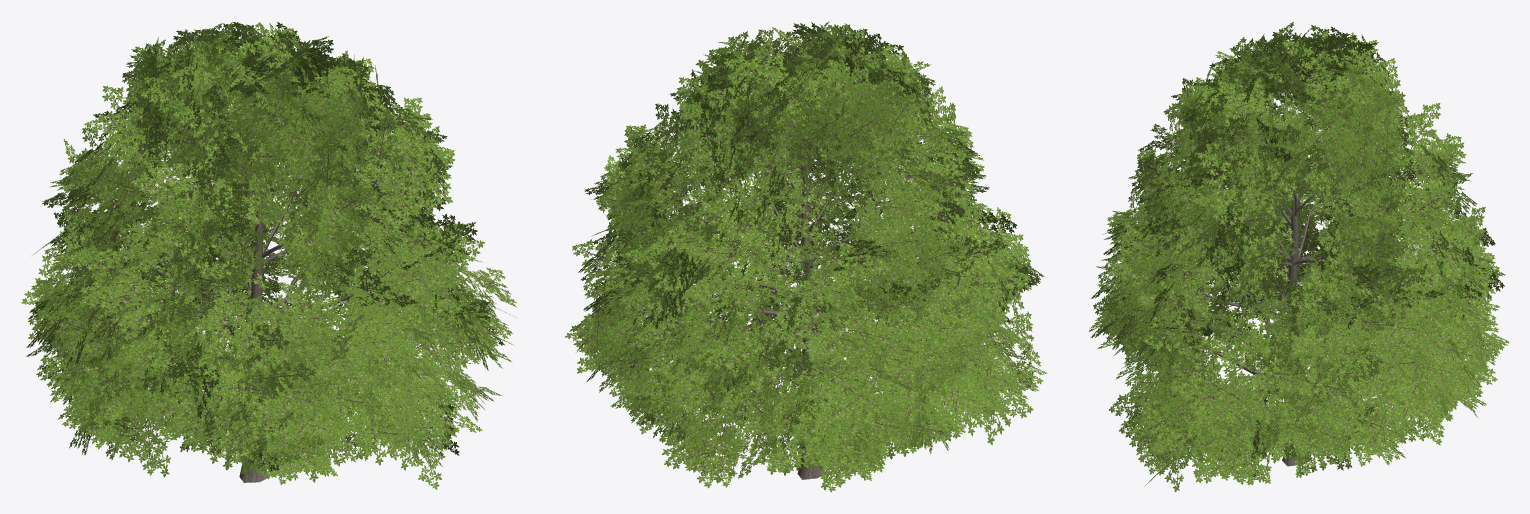
Rendered from Castanea_Dentata_Spring_Adult.glb.
3 renders of one model, left to right at view 1: azimuth 30°, elevation 25°; view 2: azimuth 150°, elevation 25°; view 3: azimuth 270°, elevation 25°, orthographic. The views are drawn at different scales.
Parts seen in each view (by area): view 1: Castanea_Dentata_Spring_Adult__LOD3; view 2: Castanea_Dentata_Spring_Adult__LOD3; view 3: Castanea_Dentata_Spring_Adult__LOD3.
Part boxes in pixels (x1,y1,x2,y2): Castanea_Dentata_Spring_Adult__LOD3: (21, 22, 516, 489); Castanea_Dentata_Spring_Adult__LOD3: (565, 21, 1047, 492); Castanea_Dentata_Spring_Adult__LOD3: (1089, 22, 1509, 491).
Bounding box in the file's own units: 23.53 × 22.56 × 21.39.
Materials: 2 (2 with a texture image).
